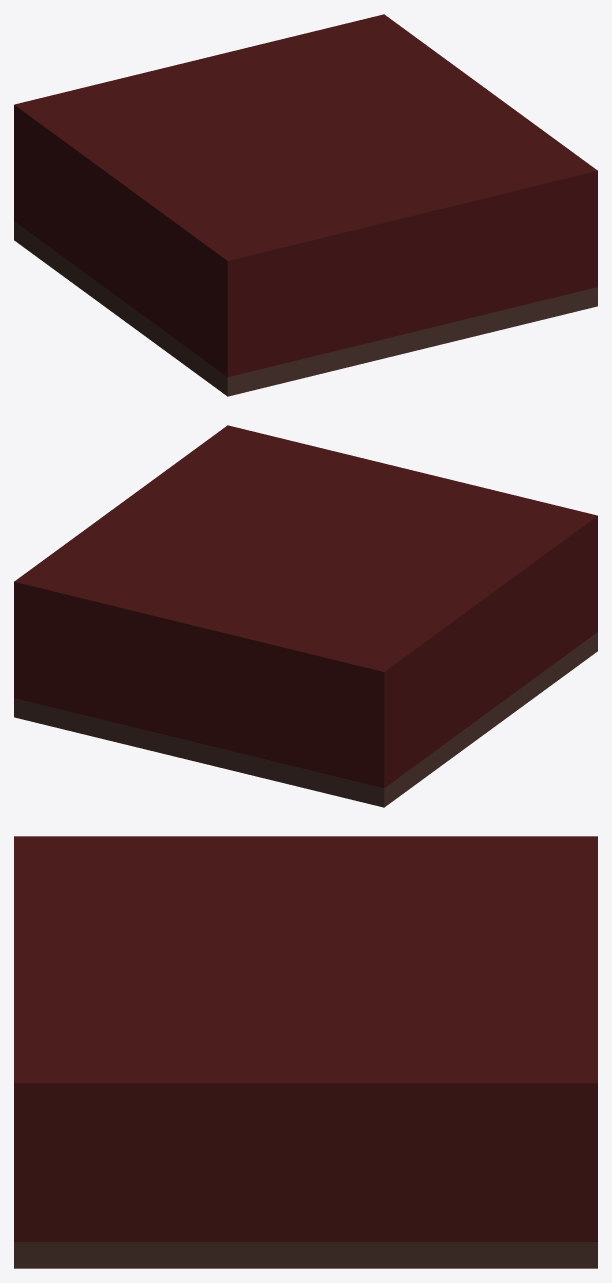
Rendered from House-1-House Ceil Foundation.obj.
3 renders of one model, top to bottom at view 1: azimuth 30°, elevation 25°; view 2: azimuth 150°, elevation 25°; view 3: azimuth 270°, elevation 25°, orthographic. The views are drawn at different scales.
Parts seen in each view (by area): view 1: House Ceil Foundation; view 2: House Ceil Foundation; view 3: House Ceil Foundation.
Boxes of the visible parts, x1=… form: House Ceil Foundation: x1=14, y1=14, x2=597, y2=396; House Ceil Foundation: x1=14, y1=425, x2=597, y2=807; House Ceil Foundation: x1=14, y1=836, x2=597, y2=1268.
Bounding box in the file's own units: 10 × 3.5 × 10.
Materials: 1 (1 with a texture image).
